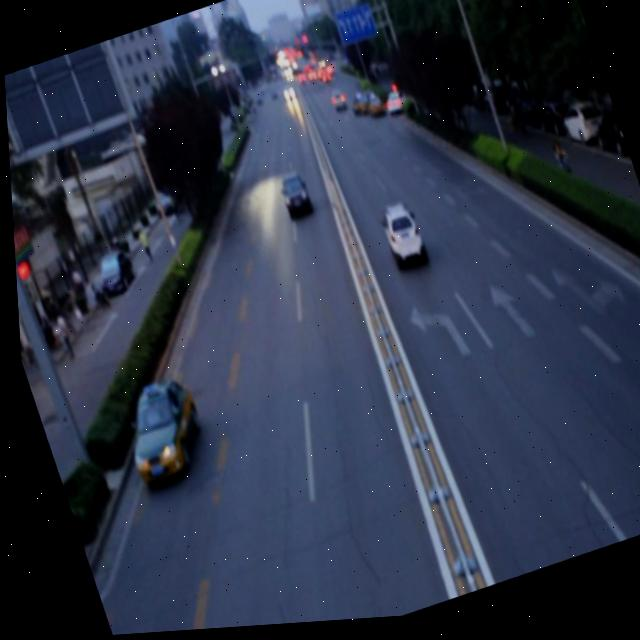car: (107, 370, 213, 494), (372, 202, 425, 281), (270, 167, 312, 226)
